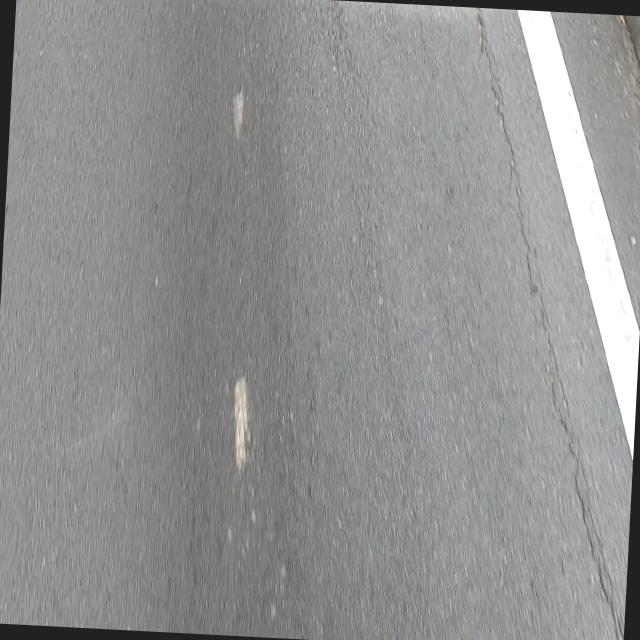Retak-Memanjang: (552, 394, 624, 640), (474, 8, 536, 287)
